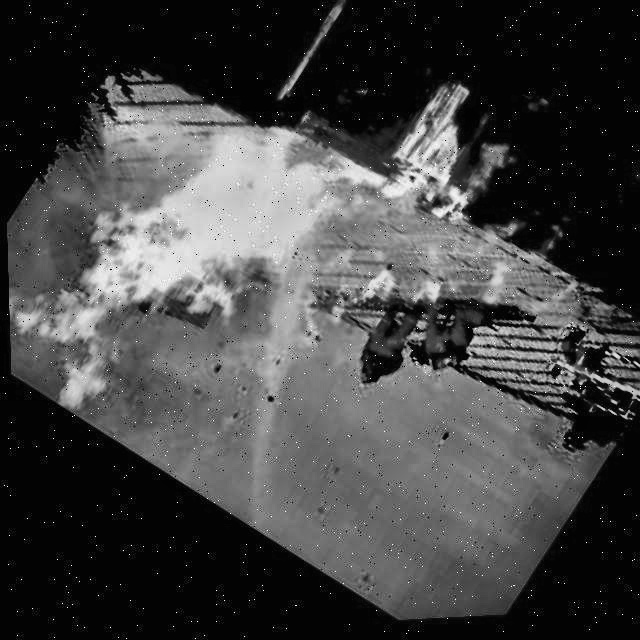Fire: (1, 41, 377, 490), (230, 223, 405, 418), (358, 67, 534, 254), (527, 144, 640, 292), (454, 177, 559, 293), (257, 0, 362, 111), (462, 248, 526, 322), (524, 270, 585, 336), (395, 266, 449, 324)
